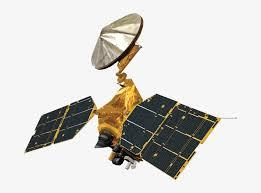antenna: (88, 10, 147, 72)
body: (95, 78, 146, 170)
solar: (119, 91, 223, 181), (22, 94, 99, 155)
